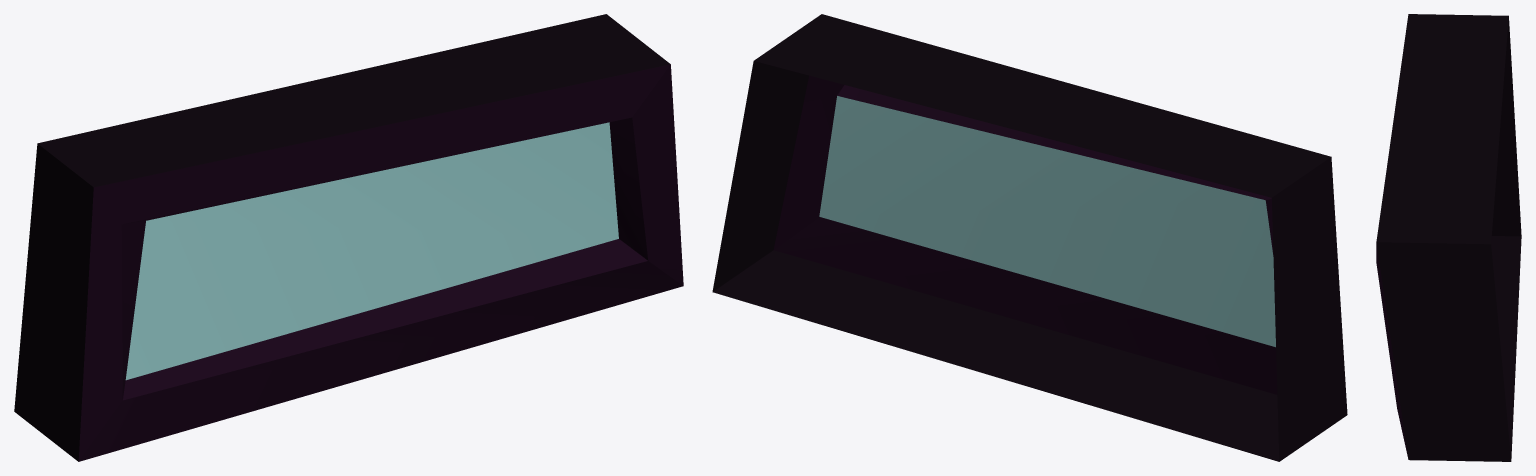
Rendered from c_house_window_rectangle_aa.fbx.
The picture shows the model from 3 angles, left to right: view 1: azimuth 30°, elevation 25°; view 2: azimuth 150°, elevation 25°; view 3: azimuth 270°, elevation 25°; orthographic projection. The views are drawn at different scales.
Parts seen in each view (by area): view 1: c_house_window_rectangle_aa; view 2: c_house_window_rectangle_aa; view 3: c_house_window_rectangle_aa.
Boxes of the visible parts, x1=… form: c_house_window_rectangle_aa: x1=14, y1=14, x2=683, y2=461; c_house_window_rectangle_aa: x1=712, y1=14, x2=1347, y2=461; c_house_window_rectangle_aa: x1=1376, y1=14, x2=1521, y2=461.
Size of the model in its own units: 2.84 by 1.21 by 0.6968.
